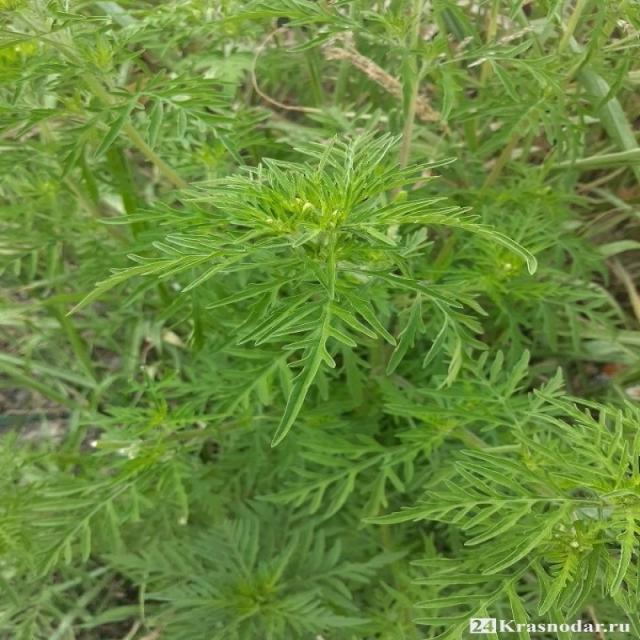ambrosia: (130, 125, 533, 406), (432, 435, 640, 592), (170, 529, 338, 640)
